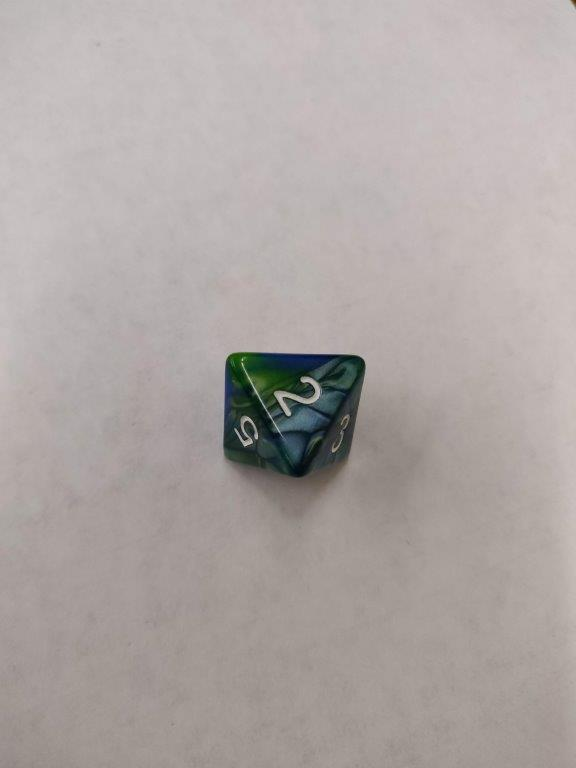d8-2: (226, 349, 365, 473)
